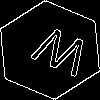W: (25, 25, 94, 86)
